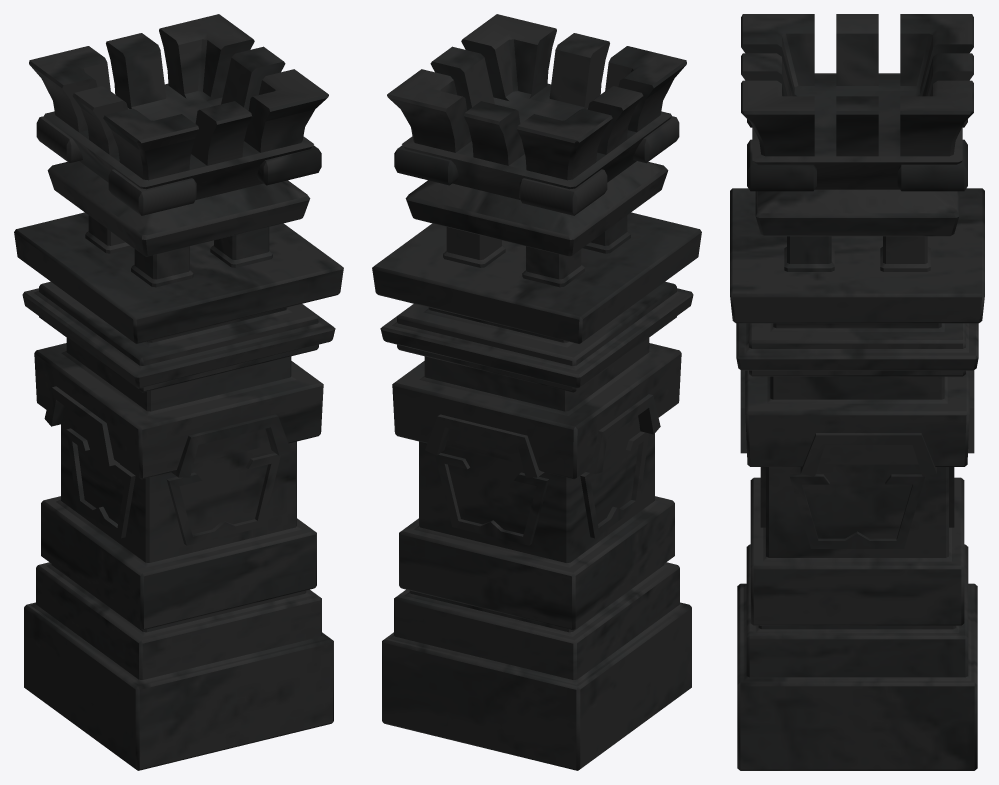
The model's file is chess_castle_01-black.glb.
3 renders of one model, left to right at view 1: azimuth 30°, elevation 25°; view 2: azimuth 150°, elevation 25°; view 3: azimuth 270°, elevation 25°, orthographic. The views are drawn at different scales.
Visible parts, largest first — view 1: castle_01; view 2: castle_01; view 3: castle_01.
Part boxes in pixels (x1,y1,x2,y2): castle_01: (14, 14, 343, 770); castle_01: (372, 14, 701, 770); castle_01: (730, 14, 984, 770).
Bounding box in the file's own units: 0.5943 × 1.7 × 0.5943.
Materials: 1 (1 with a texture image).
